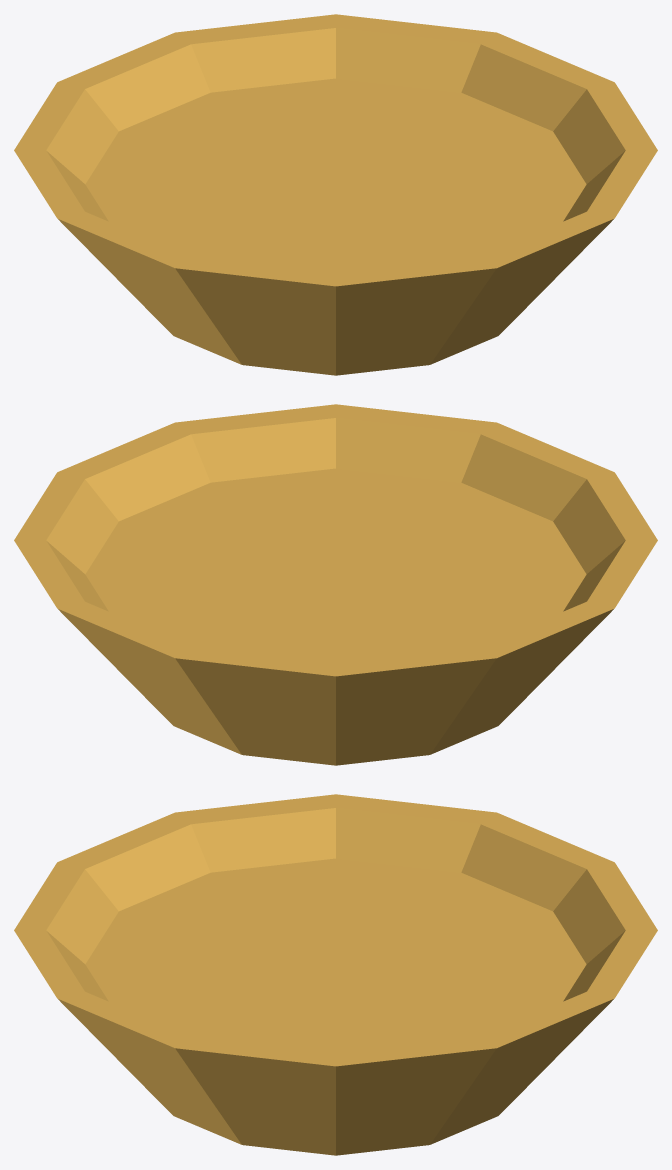
File: stock_whole.glb
3 views of the same model, one above another, from view 1: azimuth 30°, elevation 25°; view 2: azimuth 150°, elevation 25°; view 3: azimuth 270°, elevation 25° (orthographic).
Parts seen in each view (by area): view 1: stock_whole_0; view 2: stock_whole_0; view 3: stock_whole_0.
Part boxes in pixels (box(x1,y1,x2,y2)): stock_whole_0: box(14, 14, 657, 375); stock_whole_0: box(14, 404, 657, 765); stock_whole_0: box(14, 794, 657, 1155).
Bounding box in the file's own units: 0.24 × 0.06 × 0.24.
